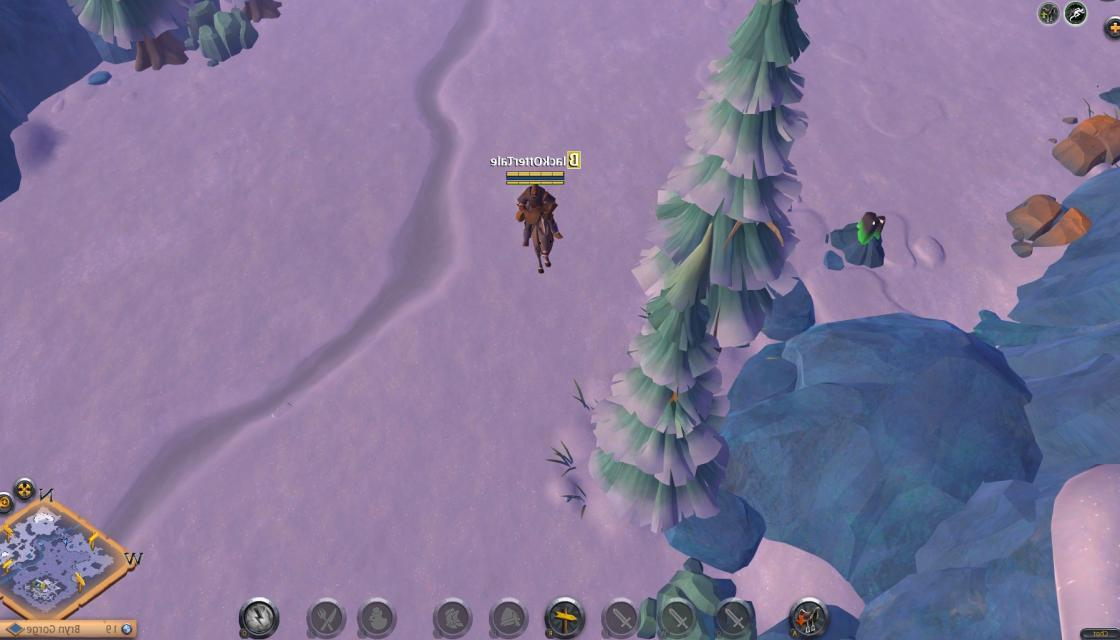limestone: (1006, 191, 1092, 256), (1051, 110, 1120, 174)
sandstone: (634, 565, 759, 640), (186, 0, 256, 62)
tinore: (822, 206, 892, 274)
